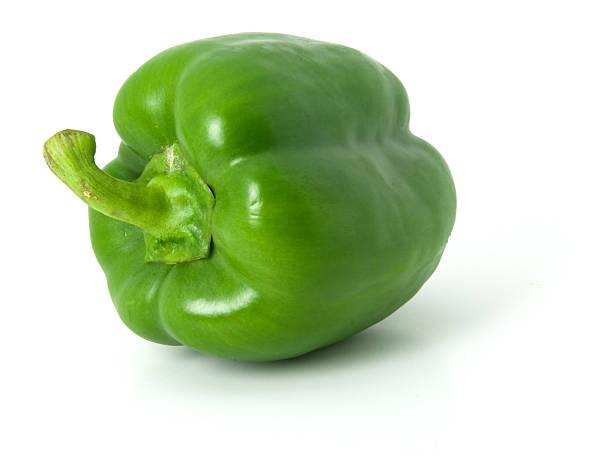Capsicum: (44, 33, 456, 361)
